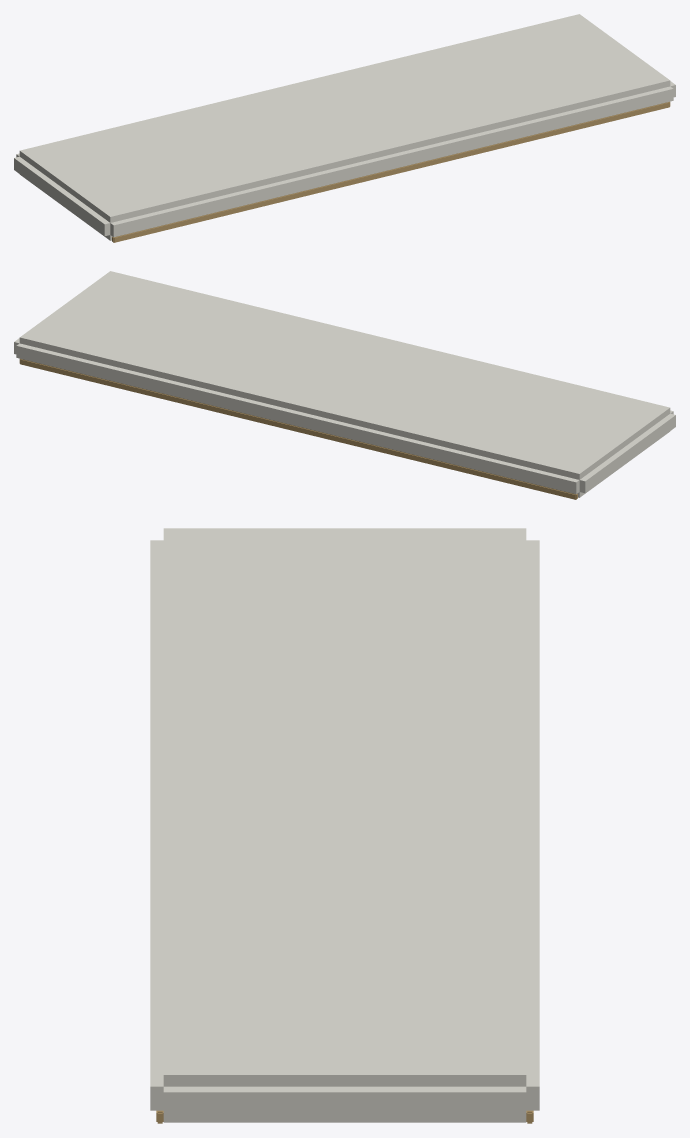
File: ceiling_v29_A.glb
The picture shows the model from 3 angles, top to bottom: view 1: azimuth 30°, elevation 25°; view 2: azimuth 150°, elevation 25°; view 3: azimuth 270°, elevation 25°; orthographic projection. The views are drawn at different scales.
Visible parts, largest first — view 1: ceiling_v29_A_V29_acoustic_plaster, ceiling_v29_A_Satin_champagne; view 2: ceiling_v29_A_V29_acoustic_plaster, ceiling_v29_A_Satin_champagne; view 3: ceiling_v29_A_V29_acoustic_plaster.
Boxes of the visible parts, left/top/right/bottom form: ceiling_v29_A_V29_acoustic_plaster: left=14, top=14, right=675, bottom=240; ceiling_v29_A_Satin_champagne: left=112, top=101, right=670, bottom=242; ceiling_v29_A_V29_acoustic_plaster: left=14, top=271, right=675, bottom=497; ceiling_v29_A_Satin_champagne: left=19, top=358, right=577, bottom=499; ceiling_v29_A_V29_acoustic_plaster: left=150, top=528, right=539, bottom=1122.
Size of the model in its own units: 4 by 0.23 by 1.18.
